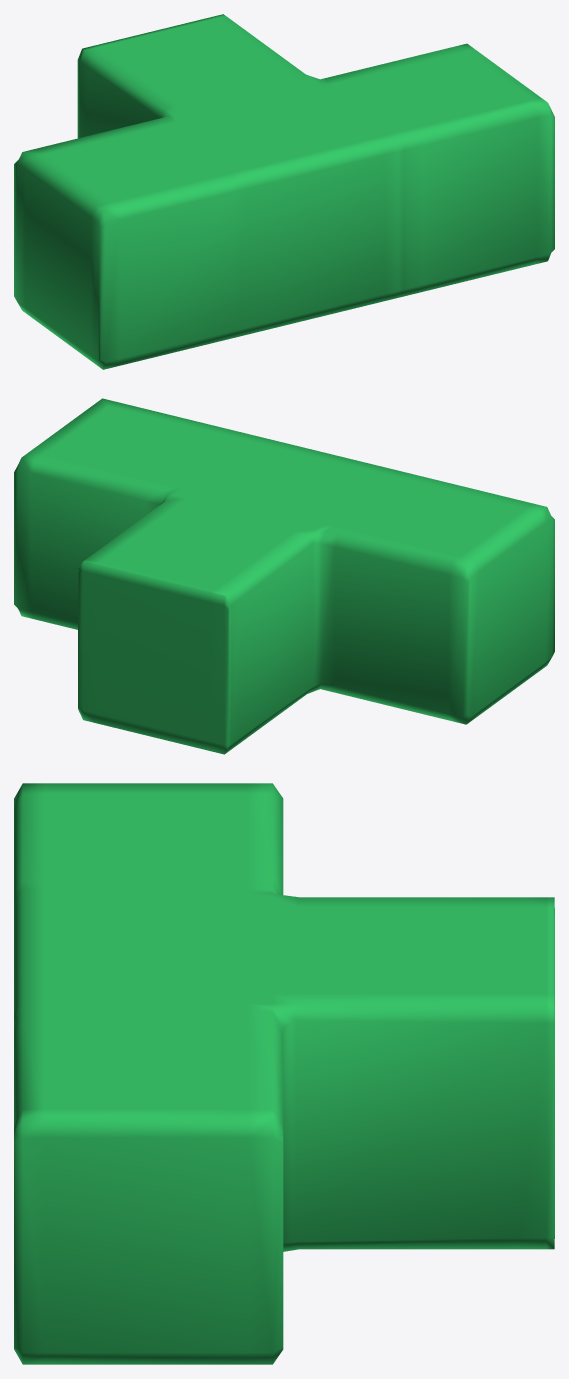
File: TTetris.obj
The picture shows the model from 3 angles, top to bottom: view 1: azimuth 30°, elevation 25°; view 2: azimuth 150°, elevation 25°; view 3: azimuth 270°, elevation 25°; orthographic projection. The views are drawn at different scales.
Parts seen in each view (by area): view 1: Cube_Cube.001_Material.001; view 2: Cube_Cube.001_Material.001; view 3: Cube_Cube.001_Material.001.
Boxes of the visible parts, left/top/right/bottom form: Cube_Cube.001_Material.001: left=14, top=14, right=554, bottom=369; Cube_Cube.001_Material.001: left=14, top=398, right=554, bottom=754; Cube_Cube.001_Material.001: left=14, top=783, right=554, bottom=1364.
Bounding box in the file's own units: 3 × 1 × 2.
